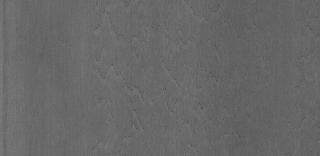silk spot: (88, 5, 254, 150)
